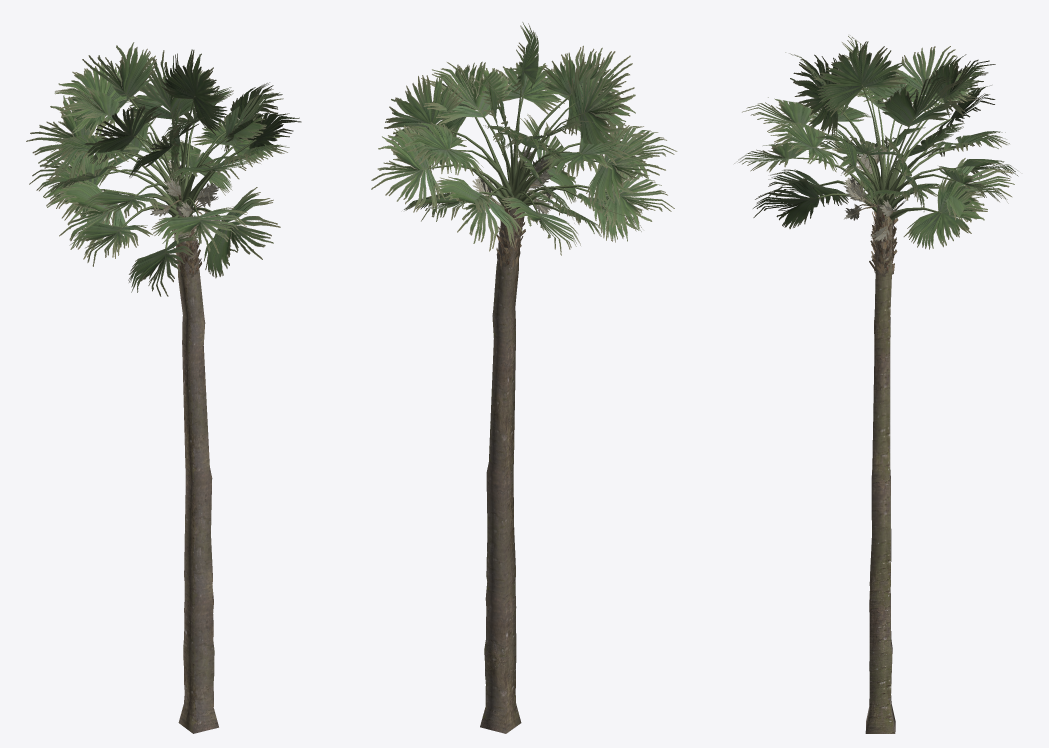
The model's file is SabalMexicana.glb.
The picture shows the model from 3 angles, left to right: view 1: azimuth 30°, elevation 25°; view 2: azimuth 150°, elevation 25°; view 3: azimuth 270°, elevation 25°; orthographic projection. The views are drawn at different scales.
Visible parts, largest first — view 1: Mexican_Palmetto__Realistic_LOD3; view 2: Mexican_Palmetto__Realistic_LOD3; view 3: Mexican_Palmetto__Realistic_LOD3.
Boxes of the visible parts, x1,y1,x2,y2 form: Mexican_Palmetto__Realistic_LOD3: (26,42,301,733); Mexican_Palmetto__Realistic_LOD3: (371,22,677,733); Mexican_Palmetto__Realistic_LOD3: (734,35,1018,733).
Bounding box in the file's own units: 7.52 × 18.94 × 7.91.
Materials: 1 (1 with a texture image).
